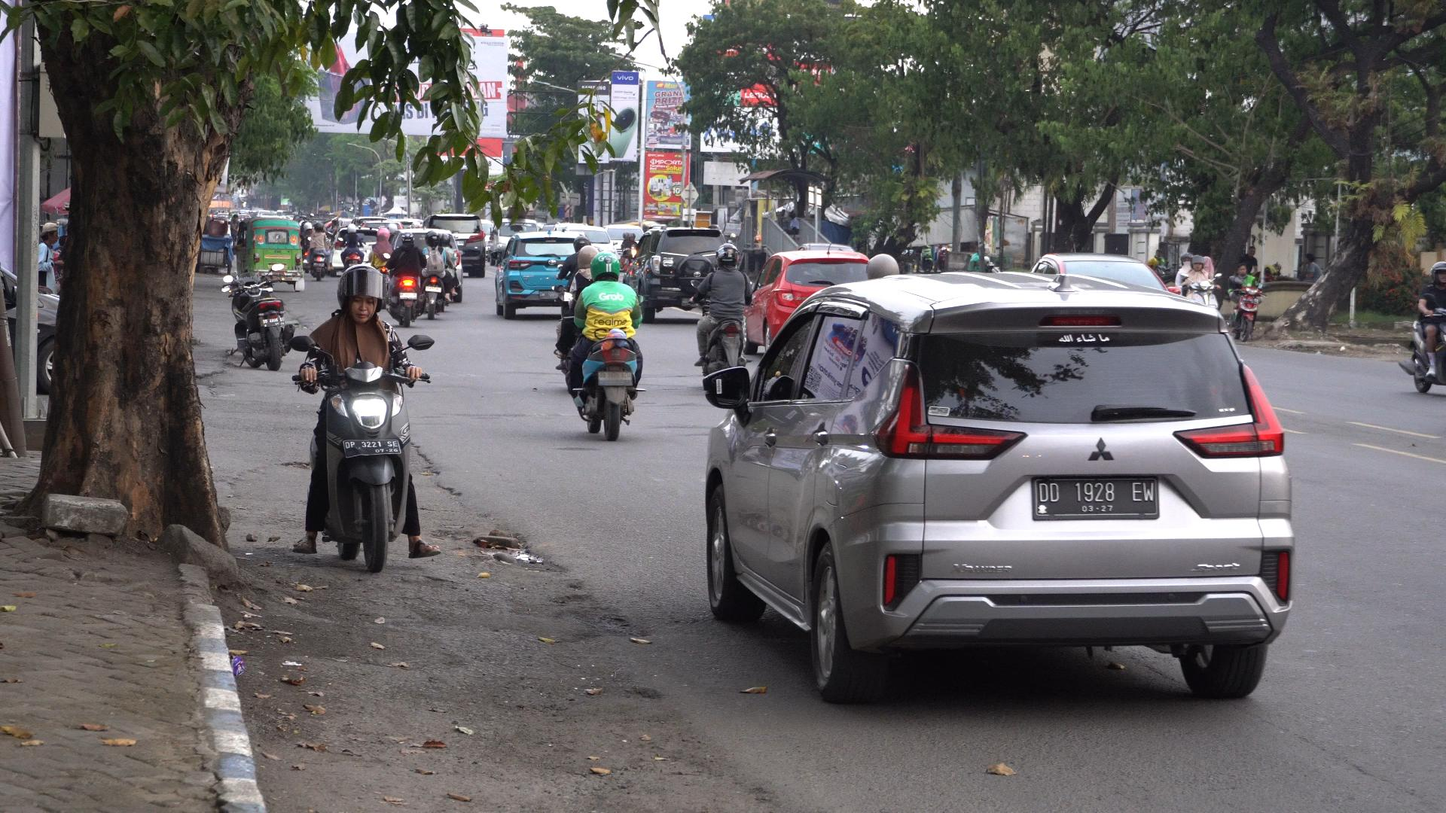number-plate: (341, 437, 403, 456)
